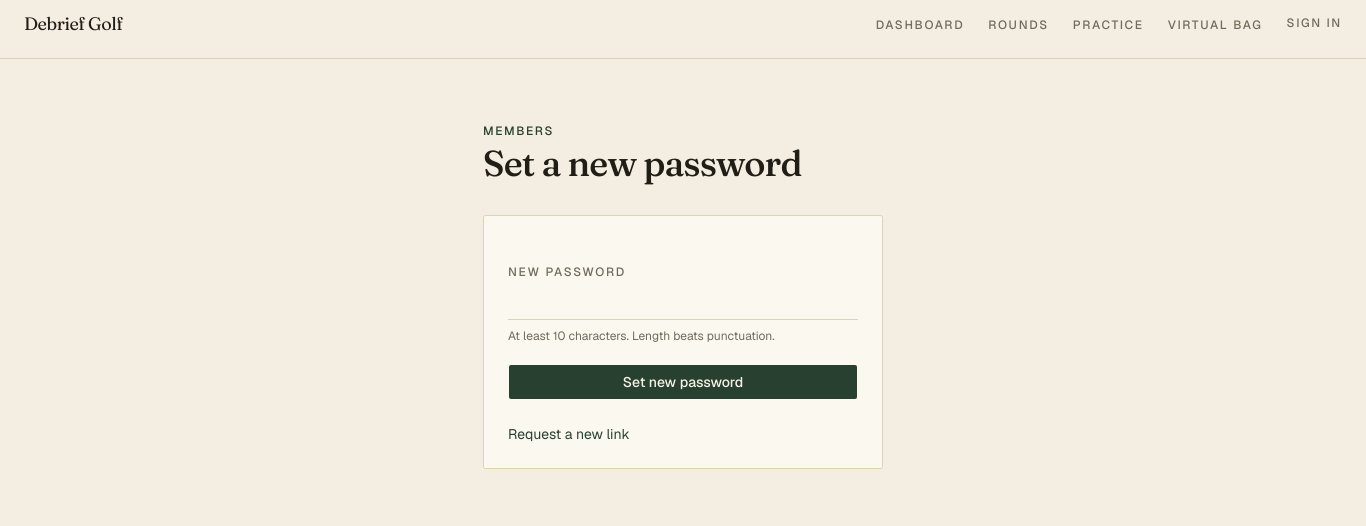
ResetPasswordPage › surfaces the backend's message for an invalid or expired token
Type "a-brand-new-password" into the password field labelled "New password" at x=683, y=302, box left=508, top=284, right=858, bottom=320
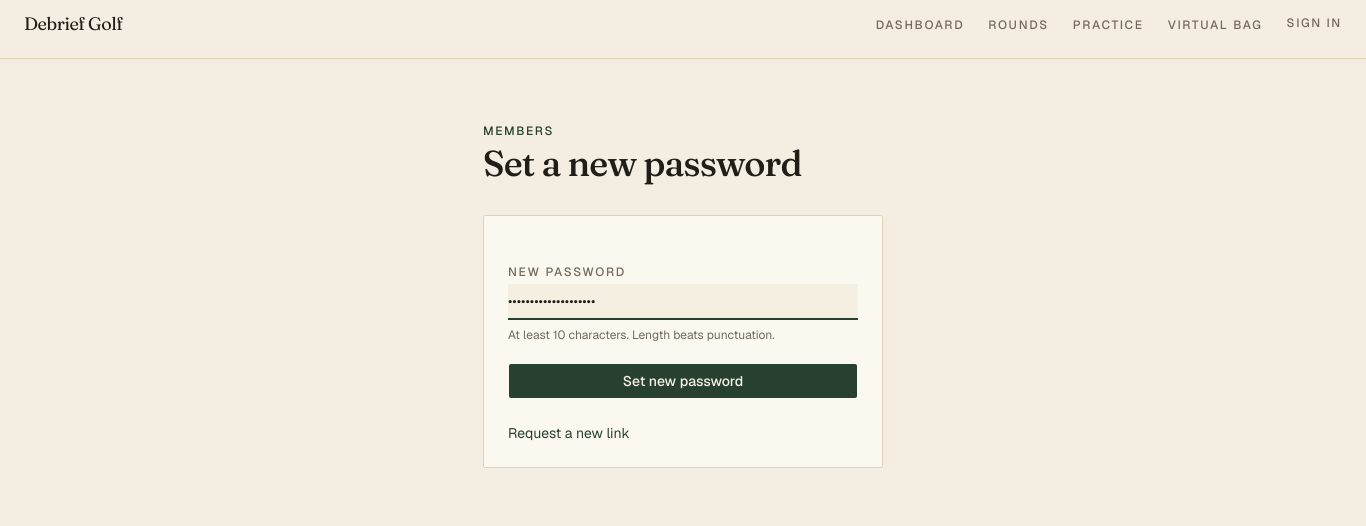
Click the button "Set new password" at x=683, y=381, box left=508, top=363, right=858, bottom=399
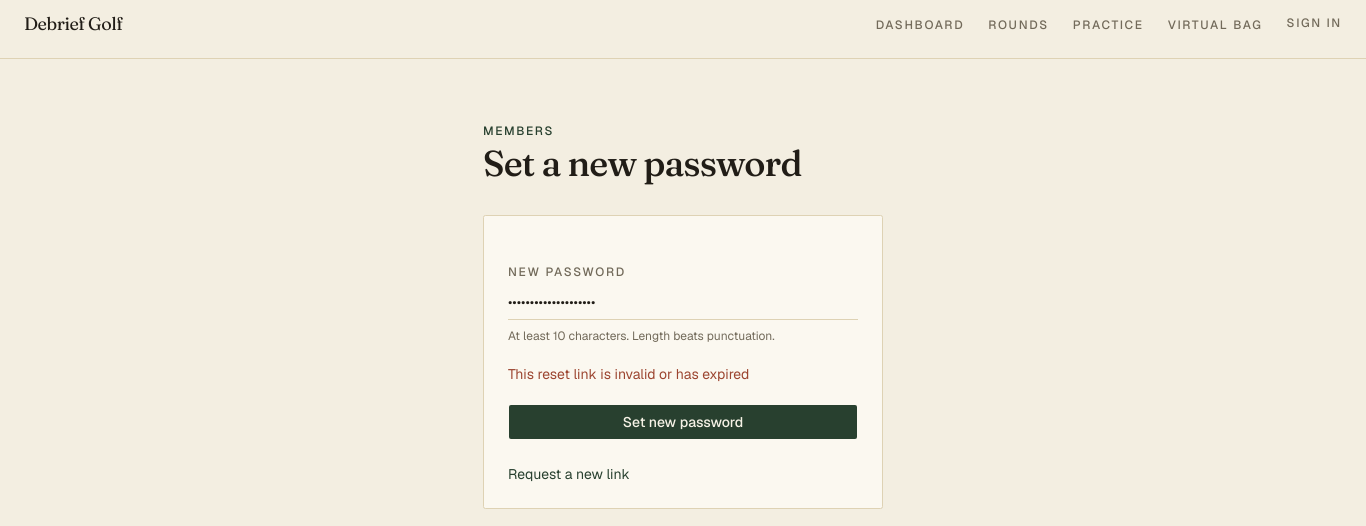
Now the message reads "This reset link is invalid or has expired", box left=508, top=365, right=749, bottom=383
